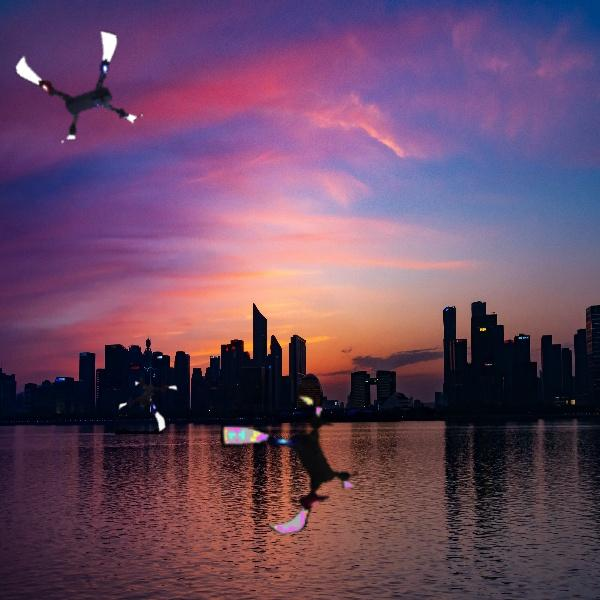drone: (221, 392, 369, 540), (23, 29, 144, 150), (116, 375, 183, 442)
